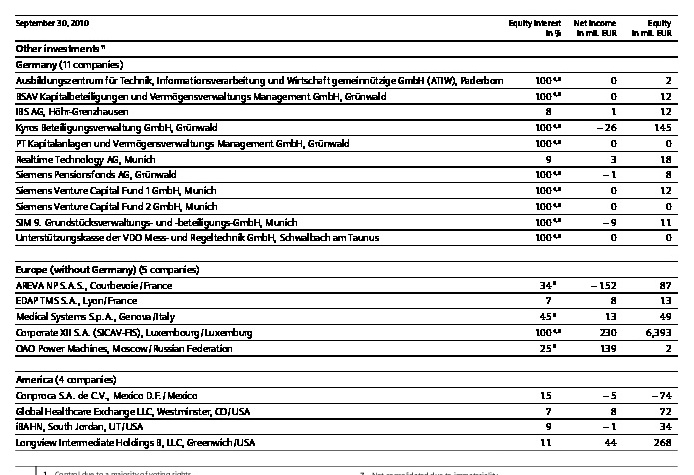table: (0, 0, 694, 475)
